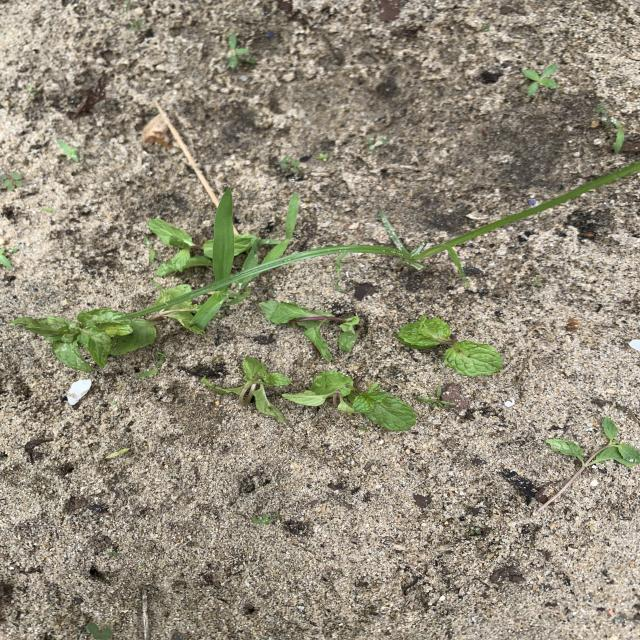crop: (539, 417, 640, 511), (283, 371, 416, 431), (11, 309, 132, 372), (259, 300, 359, 362), (201, 356, 290, 422), (149, 218, 212, 276), (146, 285, 205, 335), (443, 340, 503, 377), (396, 316, 451, 350), (234, 234, 252, 256)
weed: (315, 161, 640, 290), (260, 194, 298, 264), (193, 291, 248, 331), (212, 188, 234, 281), (243, 248, 262, 270)
